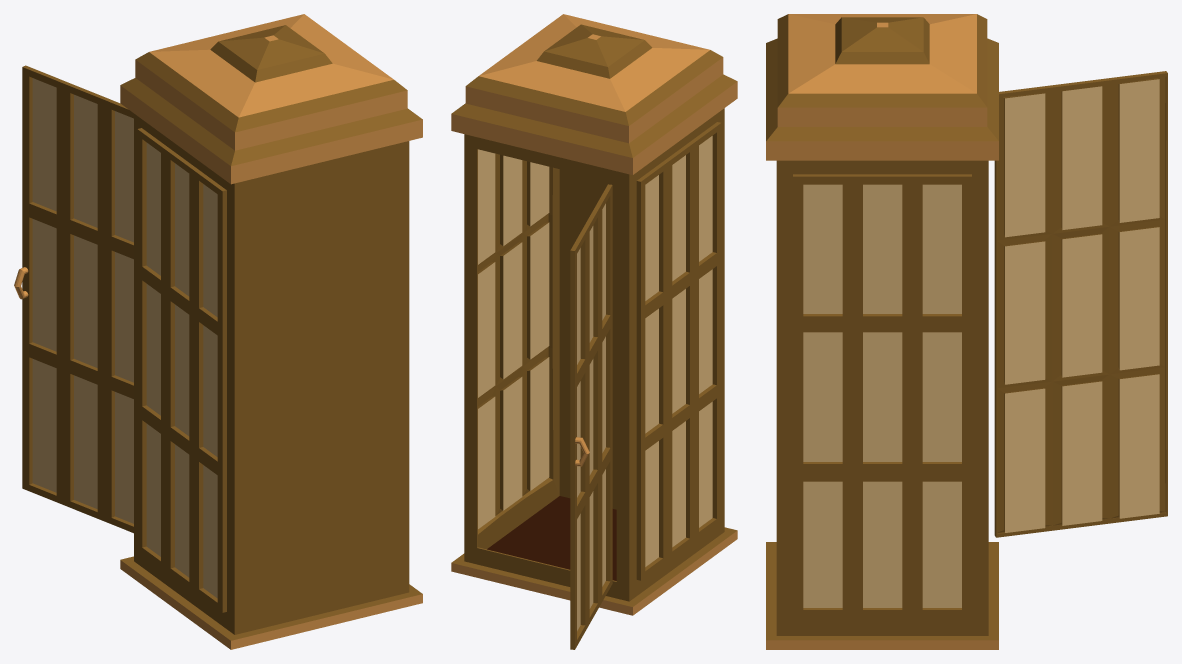
The model's file is Phonebox 2.fbx.
3 views of the same model, side by side, from view 1: azimuth 30°, elevation 25°; view 2: azimuth 150°, elevation 25°; view 3: azimuth 270°, elevation 25° (orthographic). The views are drawn at different scales.
Parts seen in each view (by area): view 1: DOOR; view 2: DOOR; view 3: DOOR.
Part boxes in pixels (x1=…): DOOR: x1=14, y1=14, x2=422, y2=649; DOOR: x1=451, y1=14, x2=737, y2=649; DOOR: x1=766, y1=14, x2=1167, y2=649.
Size of the model in its own units: 2.54 by 6 by 3.79.
